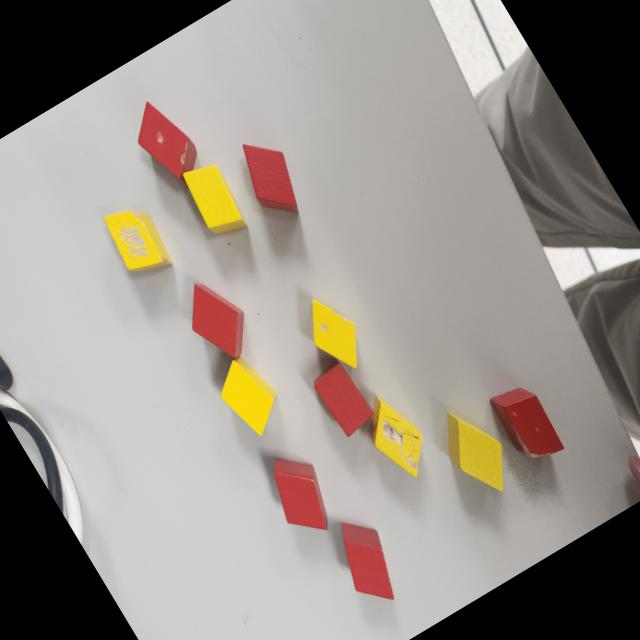broken: (352, 384, 442, 488), (120, 90, 208, 192), (292, 287, 374, 381), (487, 376, 568, 469), (97, 194, 178, 286)
red: (171, 268, 264, 372), (323, 508, 412, 614), (256, 444, 346, 547), (228, 128, 314, 230), (307, 356, 379, 440)
yellow: (428, 398, 524, 508), (208, 349, 293, 444), (177, 156, 253, 244)
